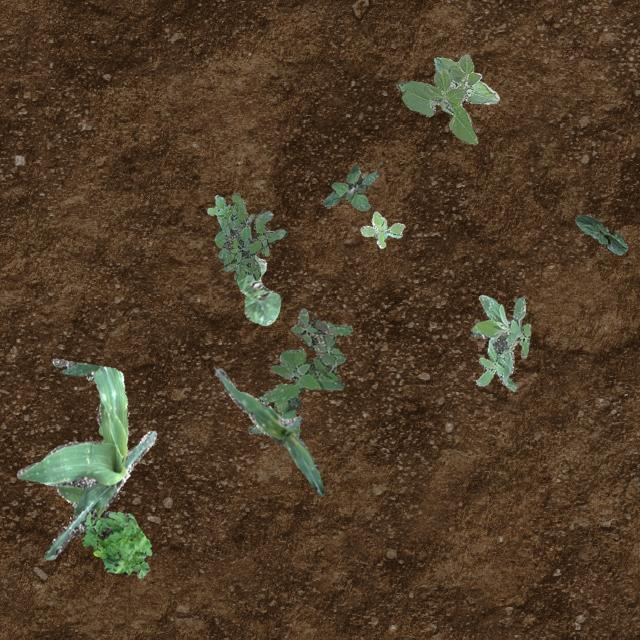crop: (16, 358, 156, 558), (213, 368, 324, 494), (396, 53, 498, 144), (236, 253, 280, 324), (574, 214, 626, 254)
weed: (246, 307, 352, 433), (206, 193, 286, 280), (470, 294, 530, 391), (80, 511, 152, 576), (322, 164, 378, 210), (359, 210, 404, 247)
